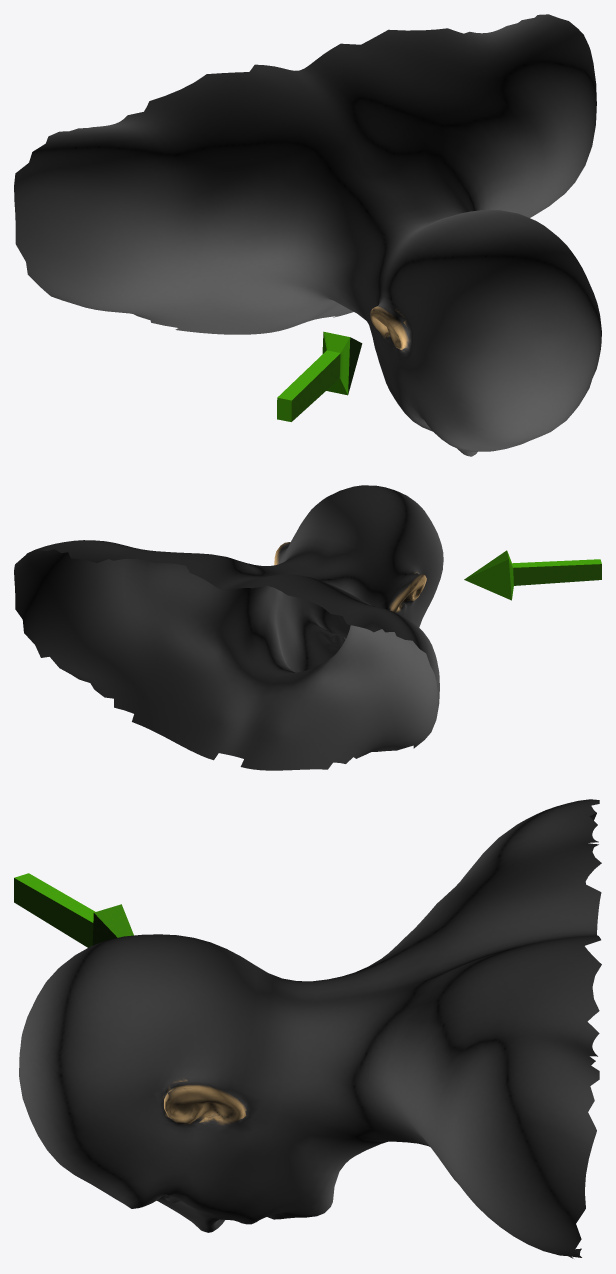
File: ears.obj
The picture shows the model from 3 angles, top to bottom: view 1: azimuth 30°, elevation 25°; view 2: azimuth 150°, elevation 25°; view 3: azimuth 270°, elevation 25°; orthographic projection. The views are drawn at different scales.
Parts seen in each view (by area): view 1: ears; view 2: ears; view 3: ears.
Boxes of the visible parts, x1,y1,x2,y2 form: ears: [14, 14, 601, 456]; ears: [14, 485, 601, 770]; ears: [14, 799, 601, 1258].
Bounding box in the file's own units: 62.99 × 29.04 × 48.45.
Materials: 1 (1 with a texture image).
